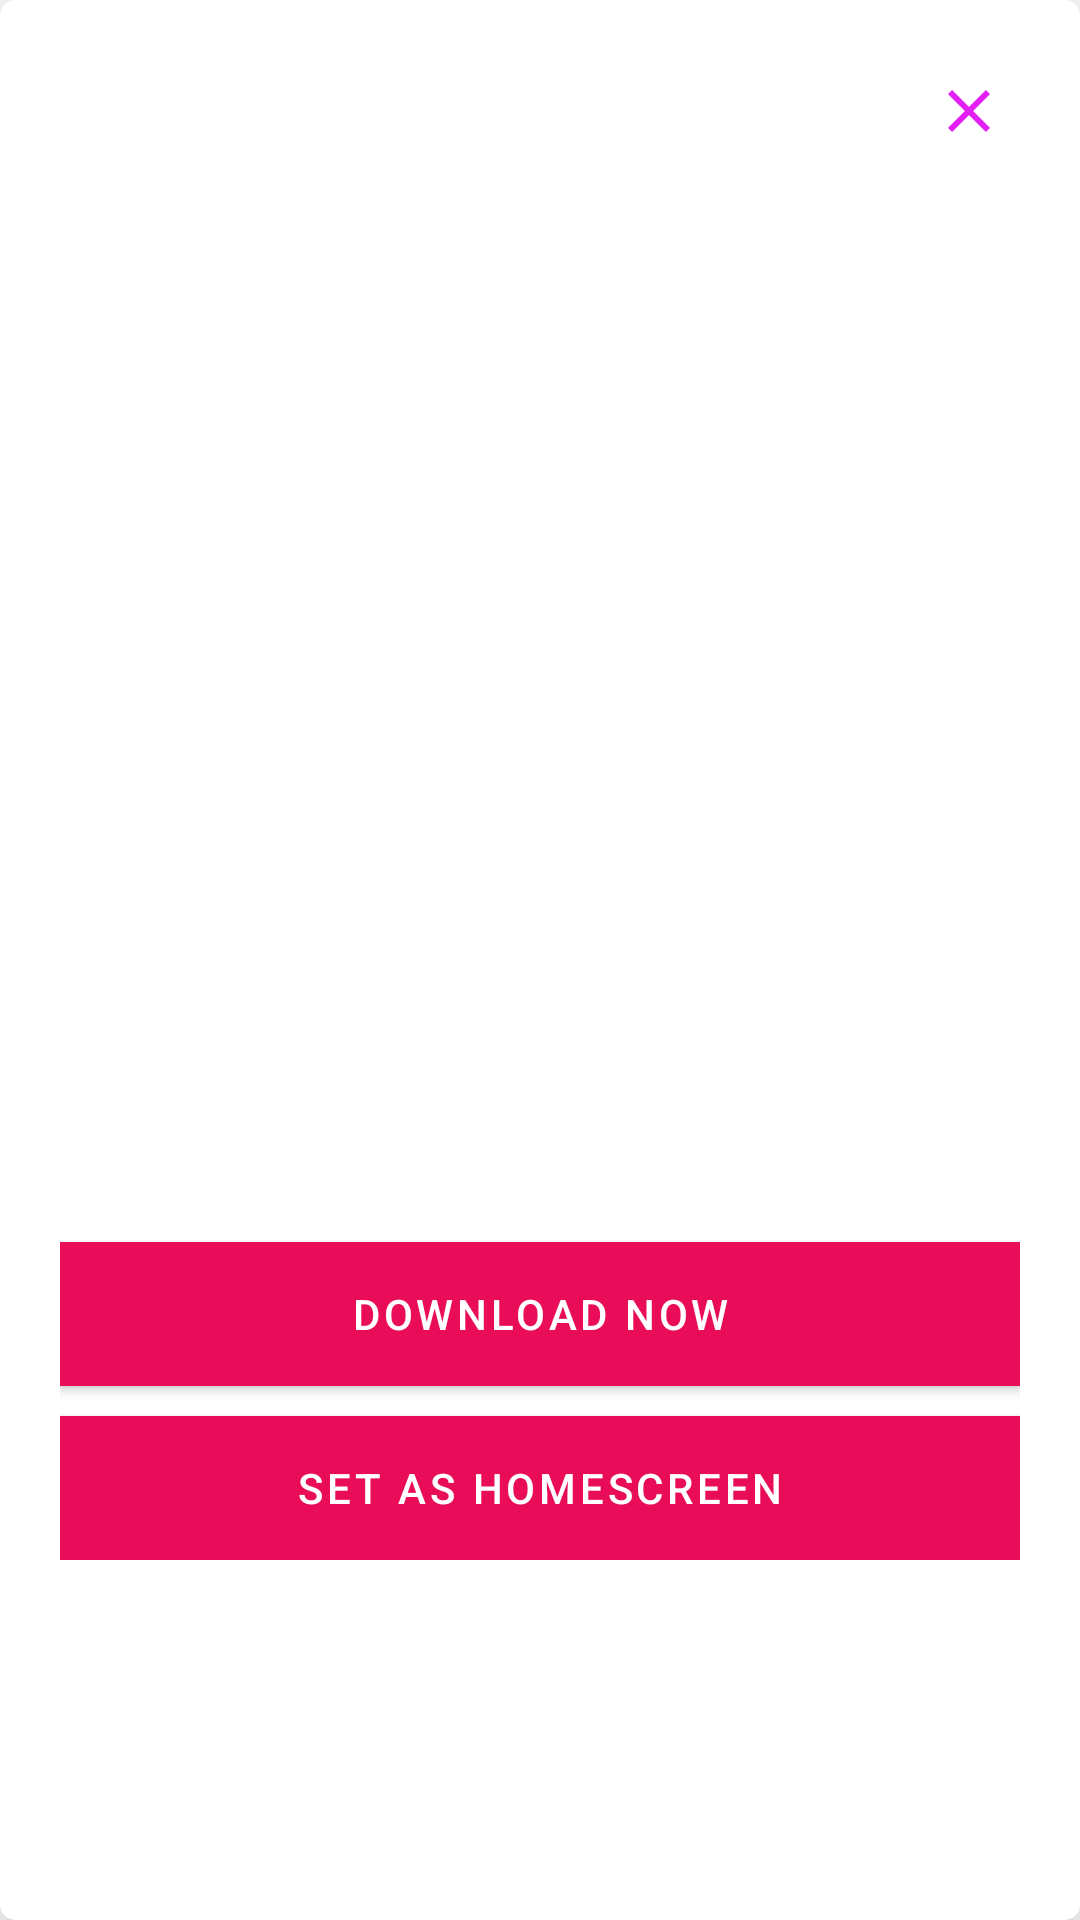

Locate icon controls on the screen. Image size 1080×1920, boxes as (x1, y1, x2, y2).
close: (948, 90, 990, 132)
